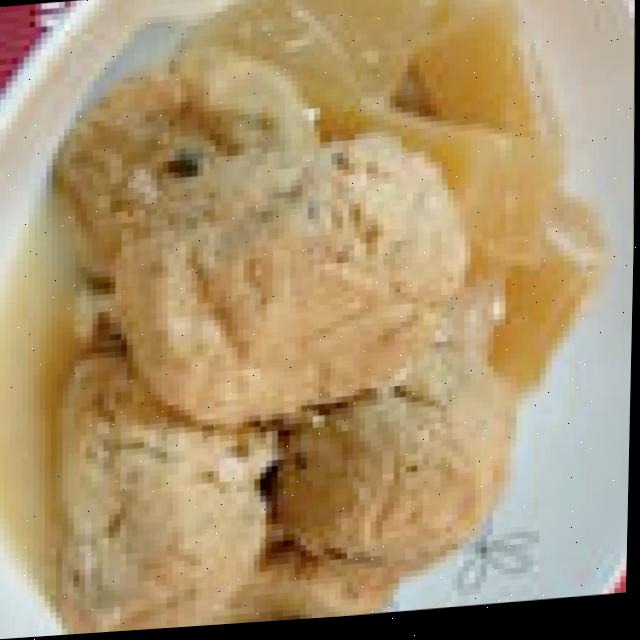熟制海鲜: (25, 43, 546, 638)
